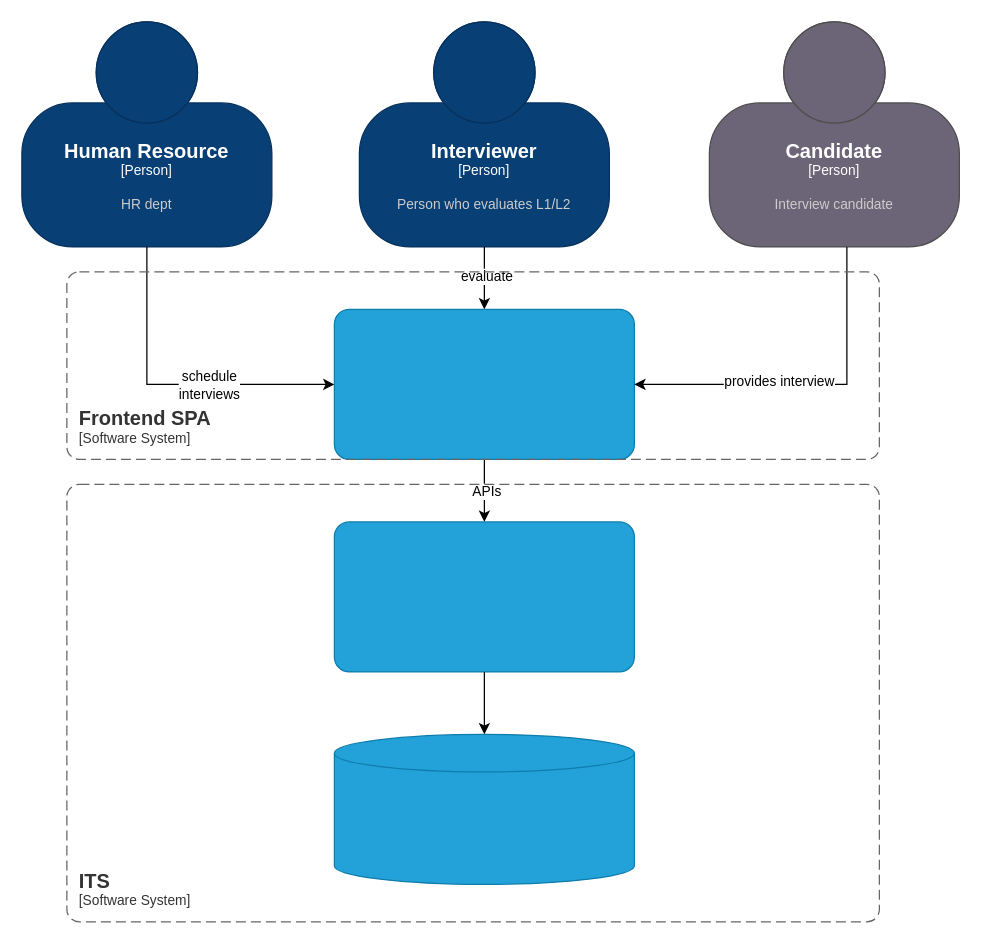
Image size: 981x944. Some labels were removed from this diagram. The shapes that lost their labels are listed below. From the top down, each one's centre as x and y in pixels, then its label:
the point at 483,383: Interview Tracking SPA [Container: React] Frontend system
the point at 483,596: Interview Tracking System [Container: SpringBoot] Backend System
the point at 483,808: Database [Container: e.g. Postgres] Storage container
